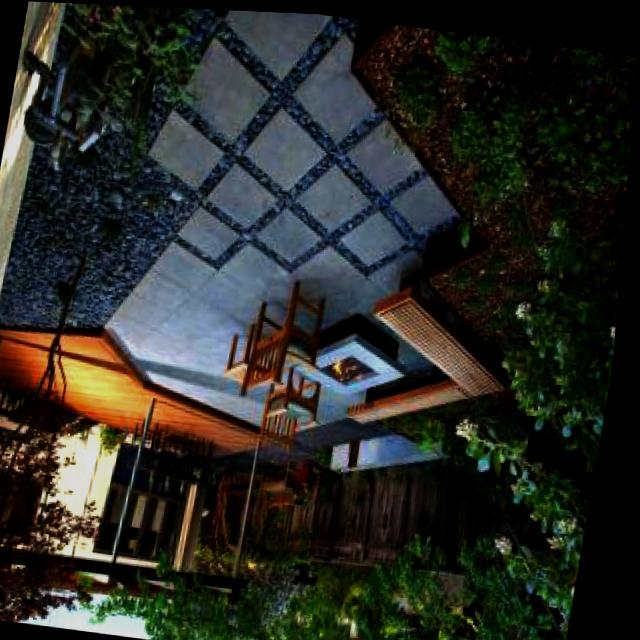helmet: (330, 348, 376, 386)
